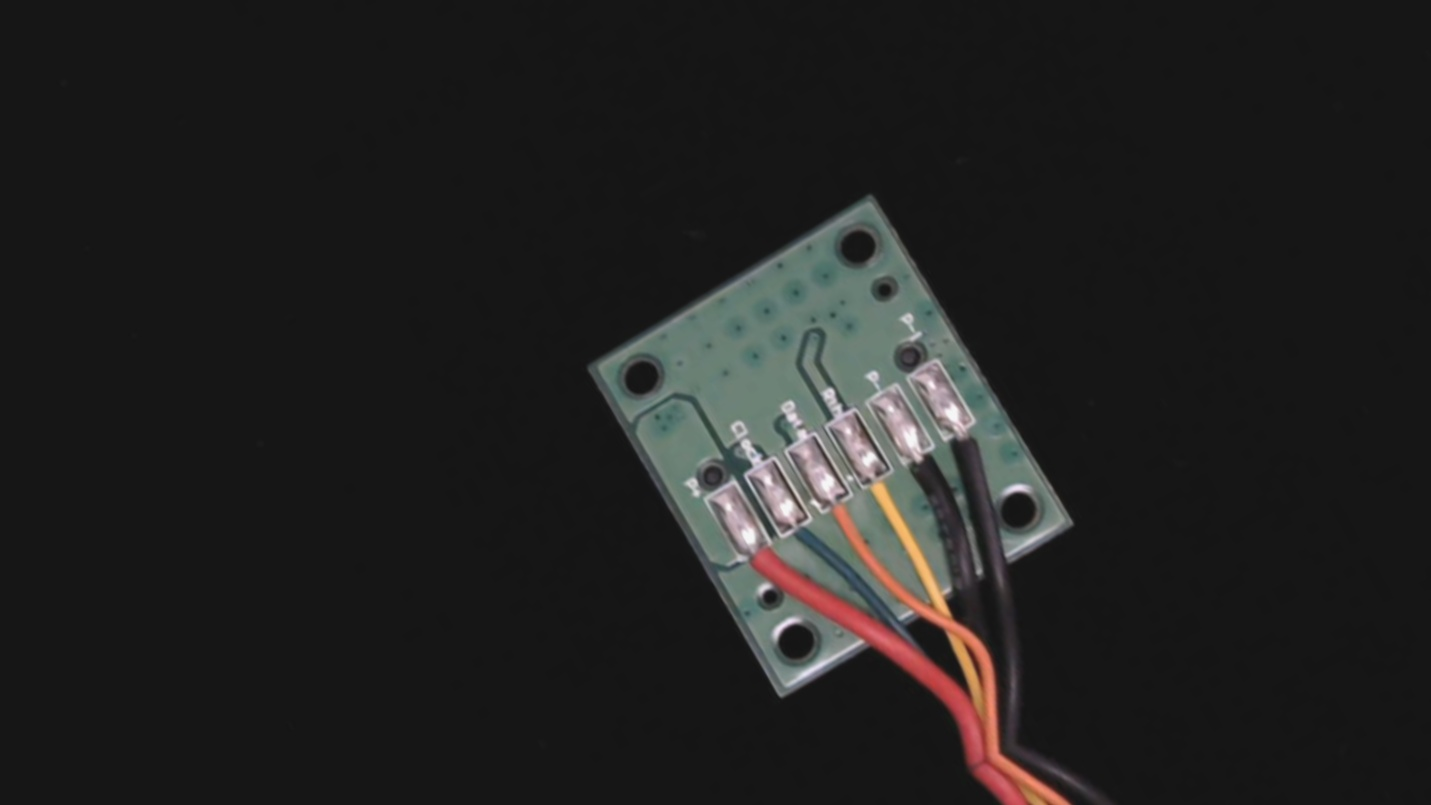Black: (882, 424, 970, 522)
Black1: (930, 398, 1013, 489)
Green: (764, 501, 837, 575)
Orange: (802, 476, 887, 571)
Red: (720, 519, 805, 614)
Yellow: (841, 451, 930, 550)
